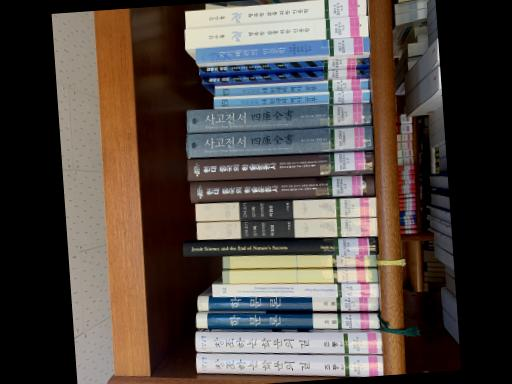book-spine: (184, 14, 368, 48), (185, 125, 373, 157), (186, 101, 371, 133), (186, 149, 374, 180), (184, 0, 366, 29), (189, 174, 375, 202), (196, 36, 370, 62), (195, 352, 383, 376), (195, 196, 376, 220), (195, 331, 382, 353), (196, 217, 377, 239), (182, 236, 378, 256), (195, 311, 380, 328), (214, 77, 368, 96), (197, 295, 378, 311), (199, 56, 369, 73), (201, 67, 369, 84), (213, 89, 369, 107), (222, 267, 377, 283), (212, 282, 378, 296), (222, 254, 376, 268)
